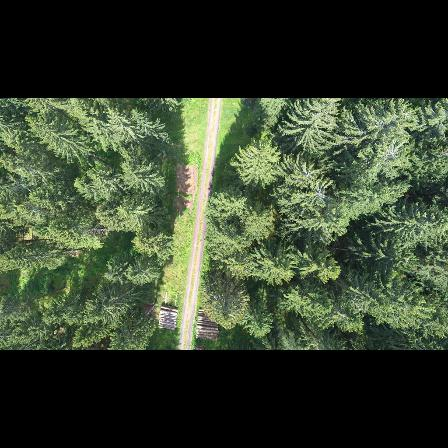Sick: (376, 136, 408, 170), (306, 183, 332, 207)
